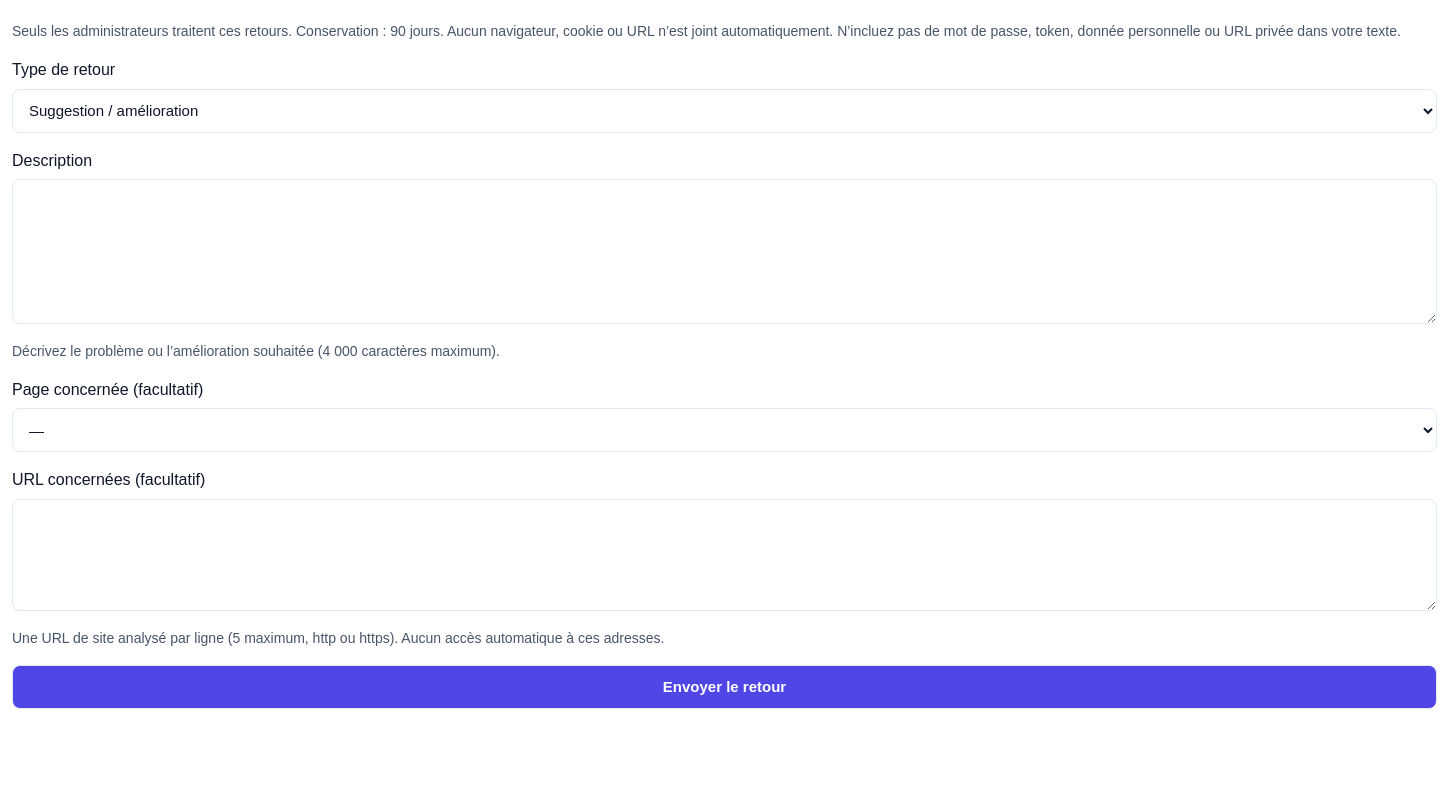
Test: does not confirm a successful HTTP response without a server receipt acknowledgement
Type "Fixture idea" into the text box labelled "Description" at [724, 251], box [12,179,1437,324]
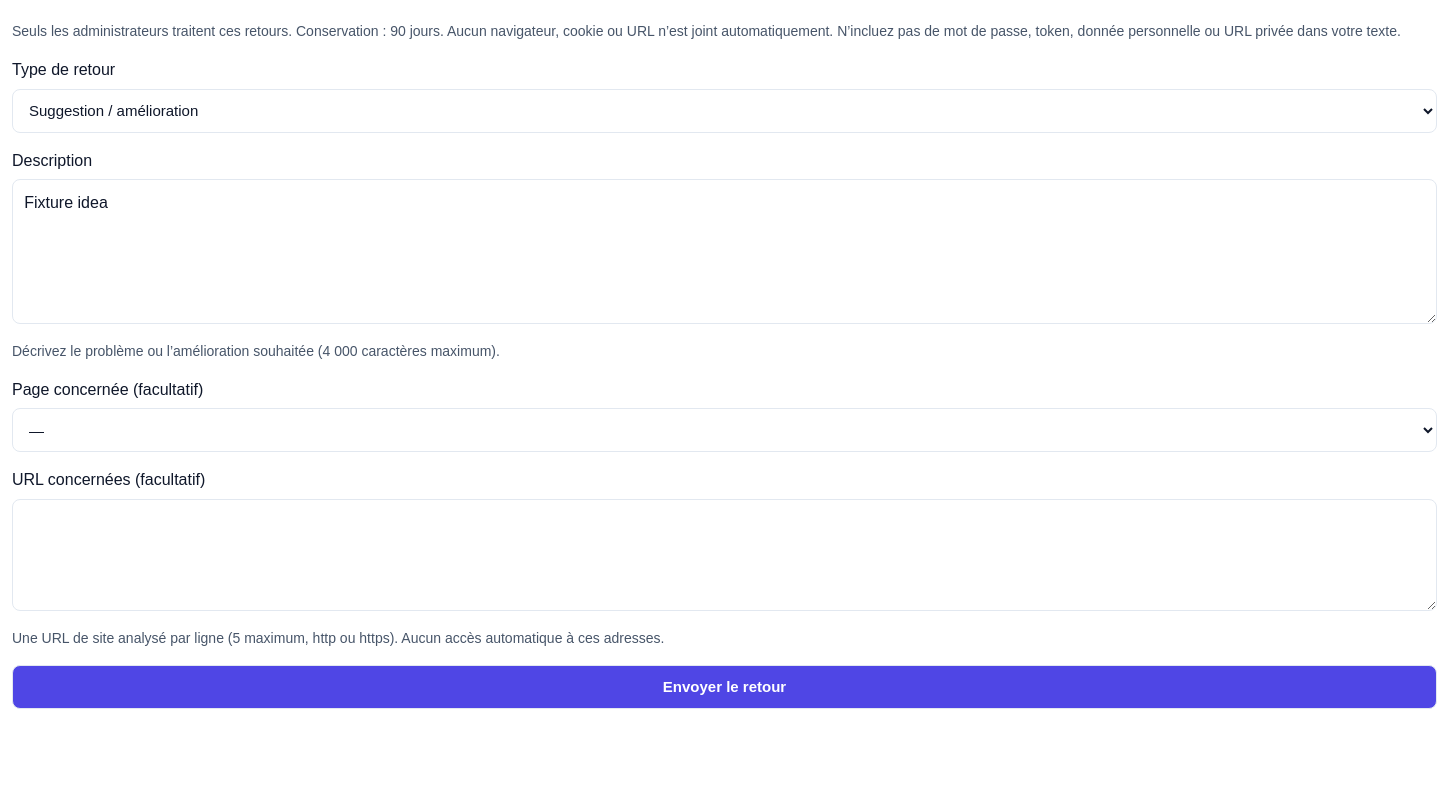
Click the button "Envoyer le retour" at [724, 687], box [12,665,1437,709]
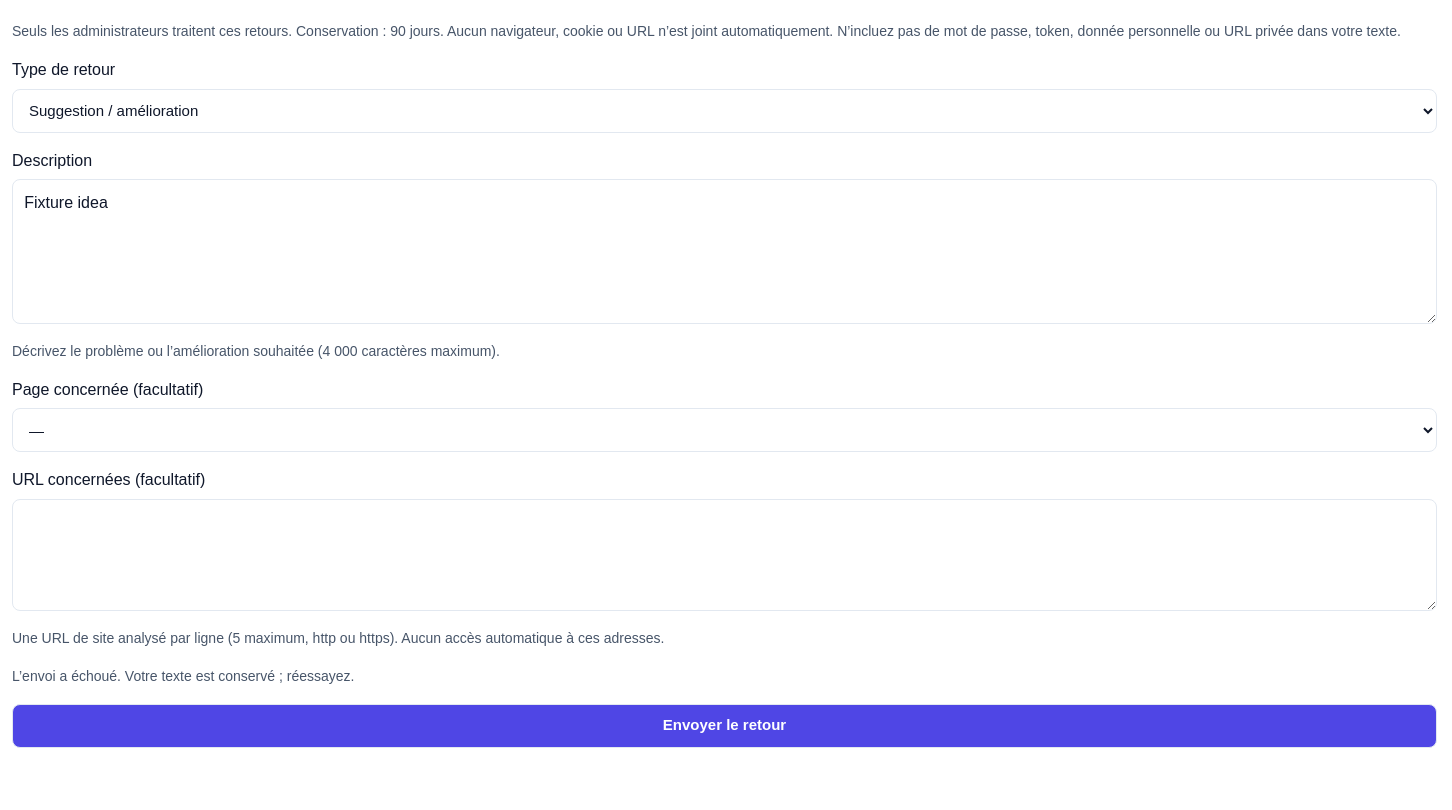
Result: the message shows "L’envoi a échoué" at [12,668,354,684]
